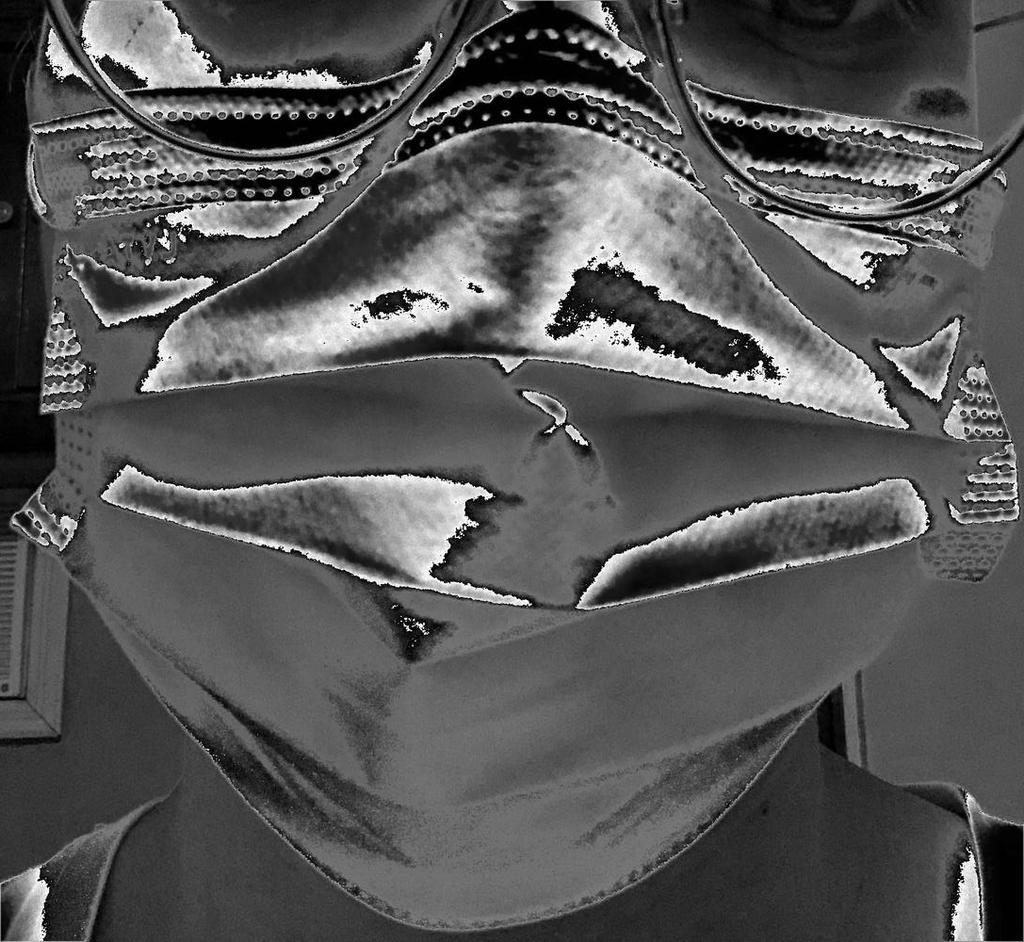Low GSM: (14, 141, 1016, 940)
